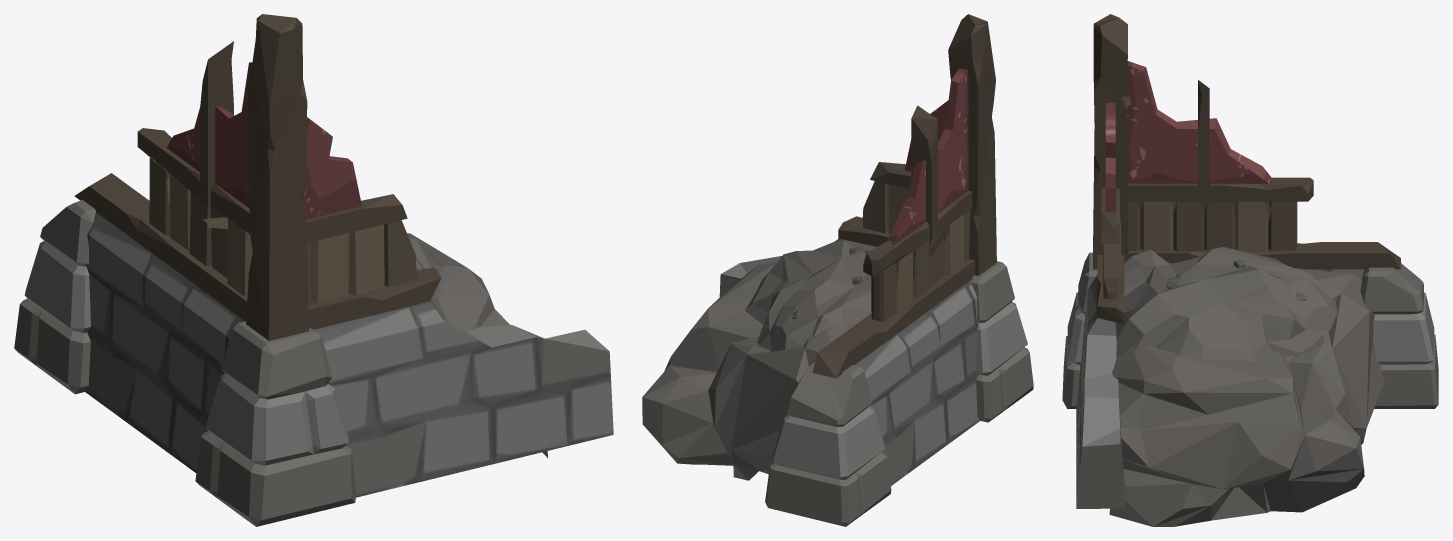
File: SM_Prop_Destroyed_House_Piece_03.fbx
The picture shows the model from 3 angles, left to right: view 1: azimuth 30°, elevation 25°; view 2: azimuth 150°, elevation 25°; view 3: azimuth 270°, elevation 25°; orthographic projection. The views are drawn at different scales.
Parts seen in each view (by area): view 1: SM_Prop_Destroyed_House_Piece_03; view 2: SM_Prop_Destroyed_House_Piece_03; view 3: SM_Prop_Destroyed_House_Piece_03.
Part boxes in pixels (x1=…): SM_Prop_Destroyed_House_Piece_03: x1=14, y1=14, x2=613, y2=526; SM_Prop_Destroyed_House_Piece_03: x1=642, y1=14, x2=1033, y2=526; SM_Prop_Destroyed_House_Piece_03: x1=1062, y1=14, x2=1438, y2=526.
Size of the model in its own units: 293 by 399 by 336.
1 material, 1 textured.
